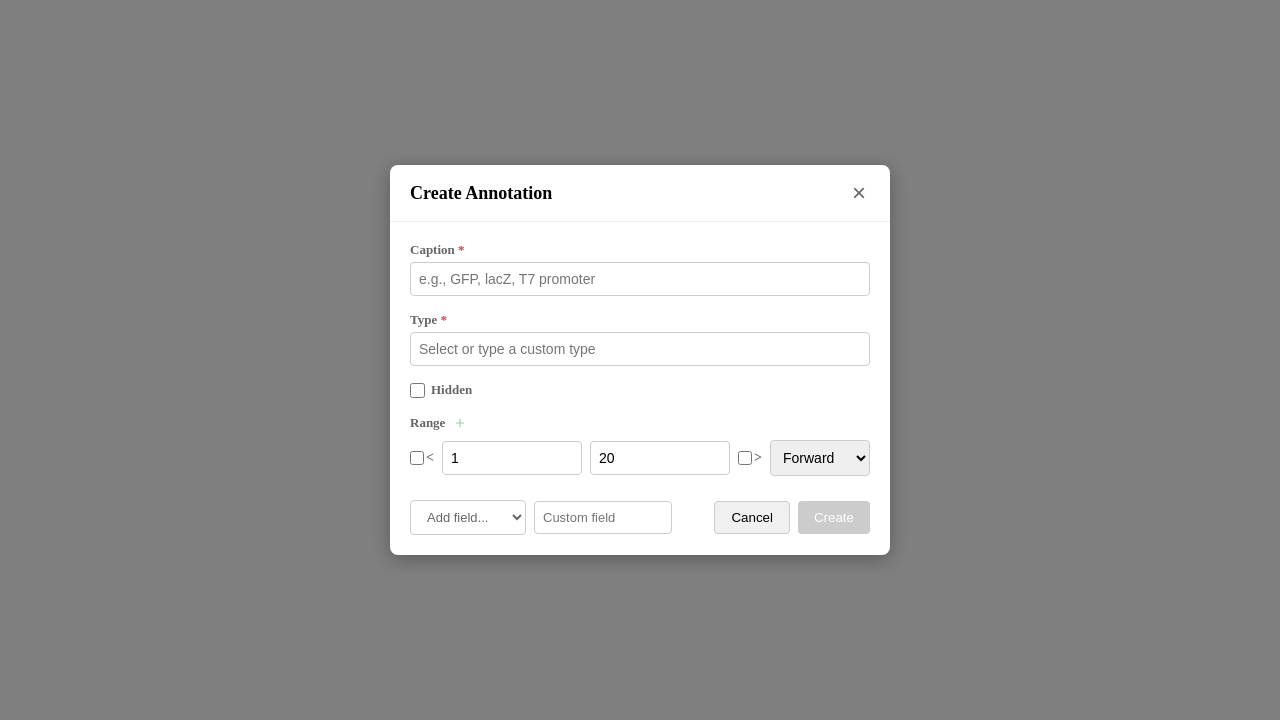
Scenario: AnnotationModal › PrimerBindExtension integration › shows primer_bind field with number input for primer type
The image size is (1280, 720).
In the field with id "annotation-type": (640, 349) [410,332,870,366], type "primer"
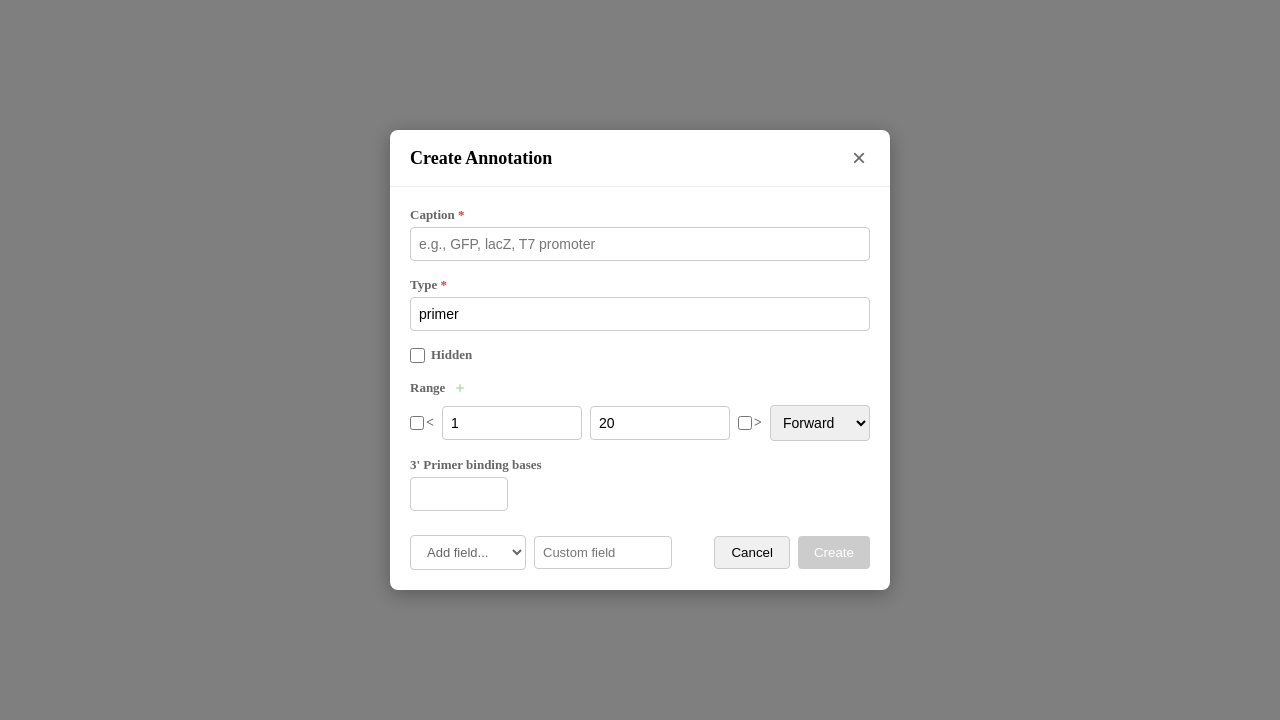
Check: the number field labelled "3' Primer binding bases" is shown, box [410,477,508,511]
